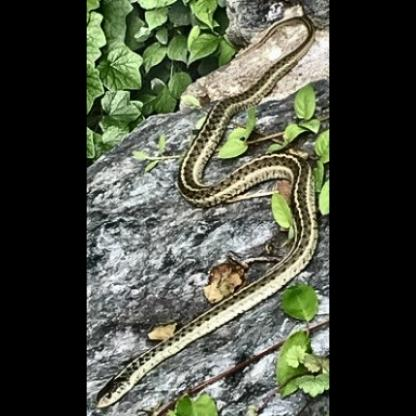Snake: (179, 91, 319, 314), (93, 371, 136, 411)
